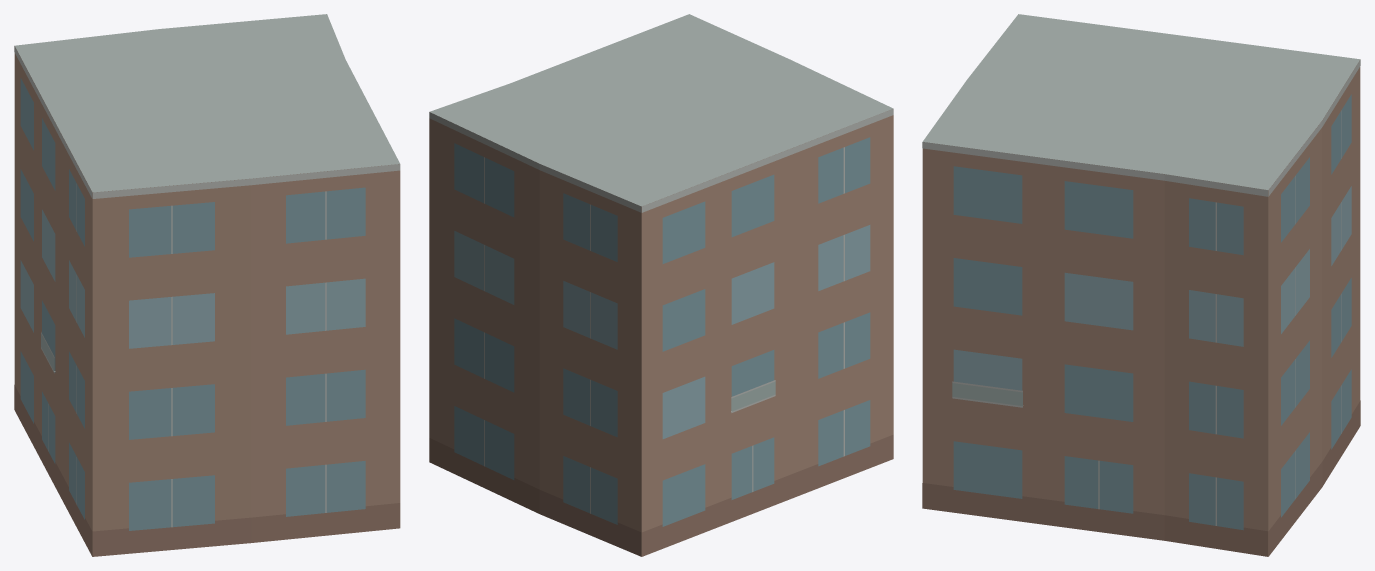
The model's file is survey-upis-32679286.glb.
3 views of the same model, side by side, from view 1: azimuth 30°, elevation 25°; view 2: azimuth 150°, elevation 25°; view 3: azimuth 270°, elevation 25° (orthographic). The views are drawn at different scales.
Visible parts, largest first — view 1: survey-upis-32679286.tmp; view 2: survey-upis-32679286.tmp; view 3: survey-upis-32679286.tmp.
Part boxes in pixels (x1=…): survey-upis-32679286.tmp: x1=14, y1=14, x2=400, y2=556; survey-upis-32679286.tmp: x1=429, y1=14, x2=893, y2=556; survey-upis-32679286.tmp: x1=922, y1=14, x2=1360, y2=556.
Bounding box in the file's own units: 13.82 × 13.4 × 14.52.
